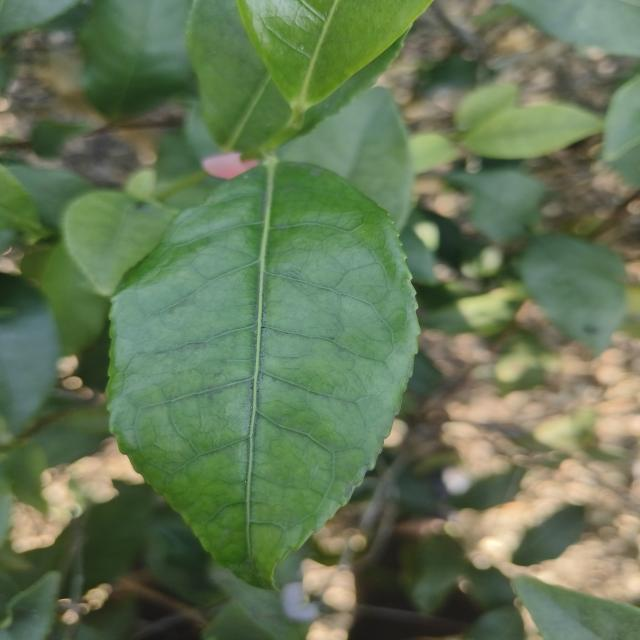Leaf: (107, 161, 419, 588), (236, 0, 431, 124), (279, 87, 413, 229), (187, 0, 290, 153), (79, 0, 192, 120), (519, 234, 625, 355), (63, 191, 176, 297), (0, 273, 60, 435), (512, 575, 640, 640), (461, 104, 602, 159), (42, 245, 110, 356), (83, 483, 154, 588), (510, 0, 640, 57), (449, 169, 545, 242), (402, 535, 469, 614), (511, 505, 585, 566), (421, 290, 514, 335), (4, 441, 48, 513), (454, 84, 518, 130), (409, 132, 458, 174)
